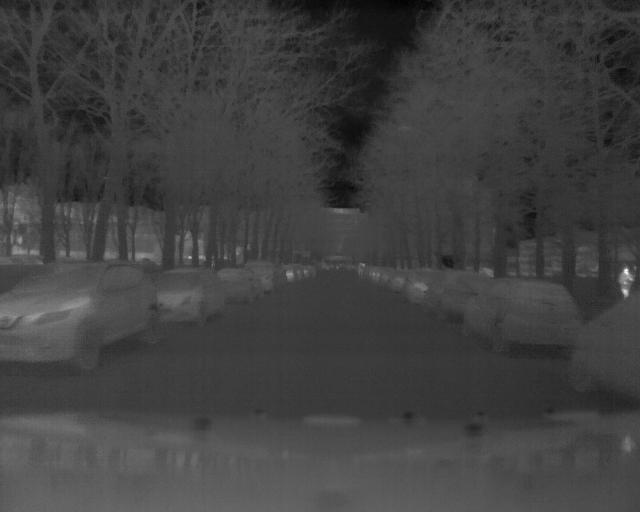car: (1, 256, 167, 368), (465, 273, 582, 350), (156, 261, 225, 328), (220, 265, 267, 304), (404, 264, 432, 304), (280, 260, 302, 282)
person: (615, 263, 634, 301)
